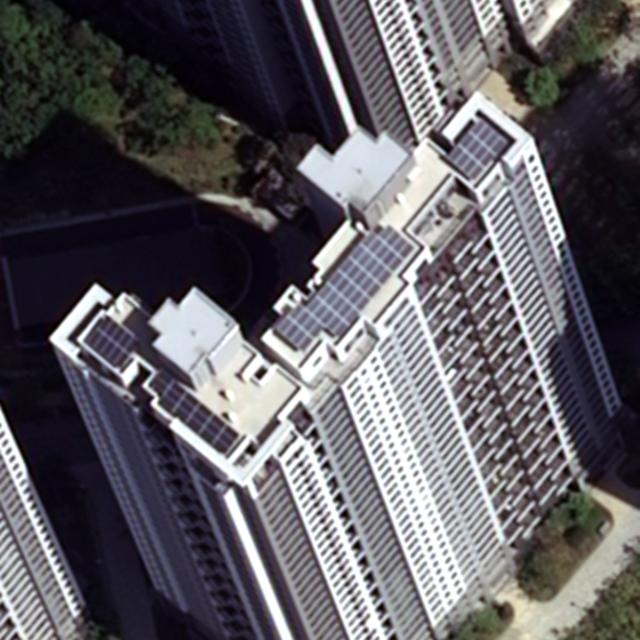panel: (271, 225, 416, 356), (149, 367, 242, 462), (443, 115, 517, 185), (82, 312, 143, 374)
